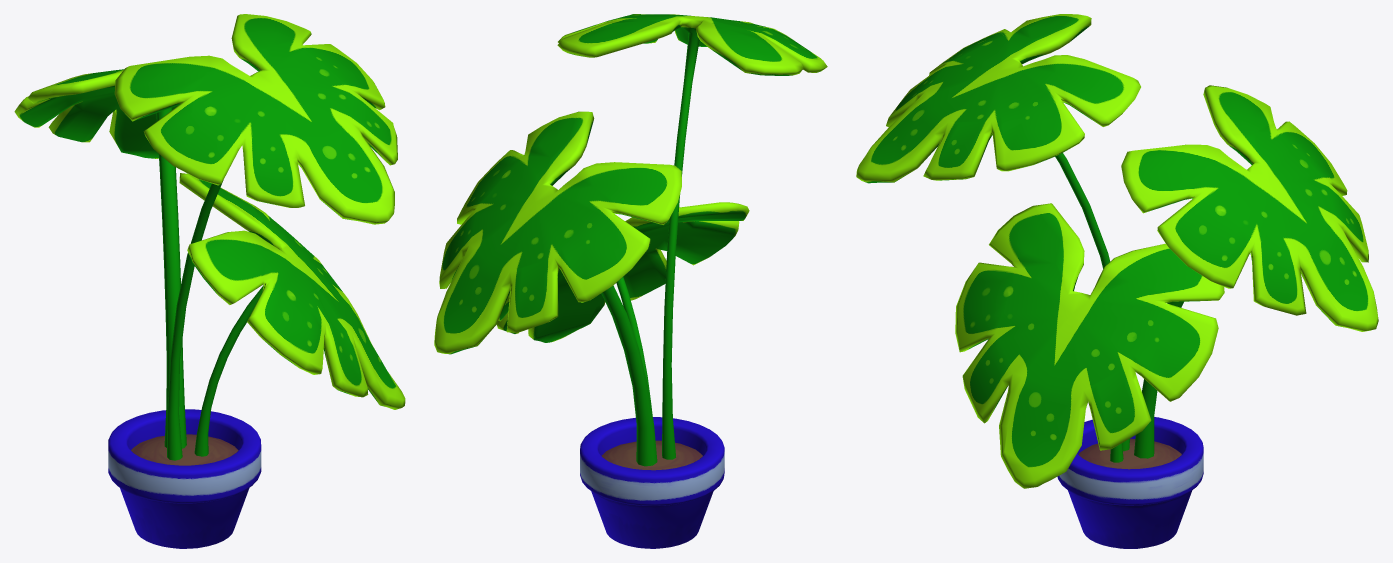
File: PRP_Plant.fbx
3 views of the same model, side by side, from view 1: azimuth 30°, elevation 25°; view 2: azimuth 150°, elevation 25°; view 3: azimuth 270°, elevation 25° (orthographic). The views are drawn at different scales.
Visible parts, largest first — view 1: Circle.003, Circle.004, Circle.002, Circle.001; view 2: Circle.001, Circle.002, Circle.003, Circle.004; view 3: Circle.004, Circle.001, Circle.003, Circle.002.
Boxes of the visible parts, <box> form: Circle.003: <box>114,14,397,460</box>; Circle.004: <box>179,173,405,456</box>; Circle.002: <box>108,409,261,548</box>; Circle.001: <box>14,69,186,448</box>; Circle.001: <box>434,111,681,466</box>; Circle.002: <box>580,417,724,548</box>; Circle.003: <box>557,14,827,459</box>; Circle.004: <box>496,202,749,414</box>; Circle.004: <box>955,203,1224,488</box>; Circle.001: <box>1121,85,1378,458</box>; Circle.003: <box>856,14,1140,451</box>; Circle.002: <box>1057,417,1203,548</box>.
Bounding box in the file's own units: 413 × 723 × 705.
